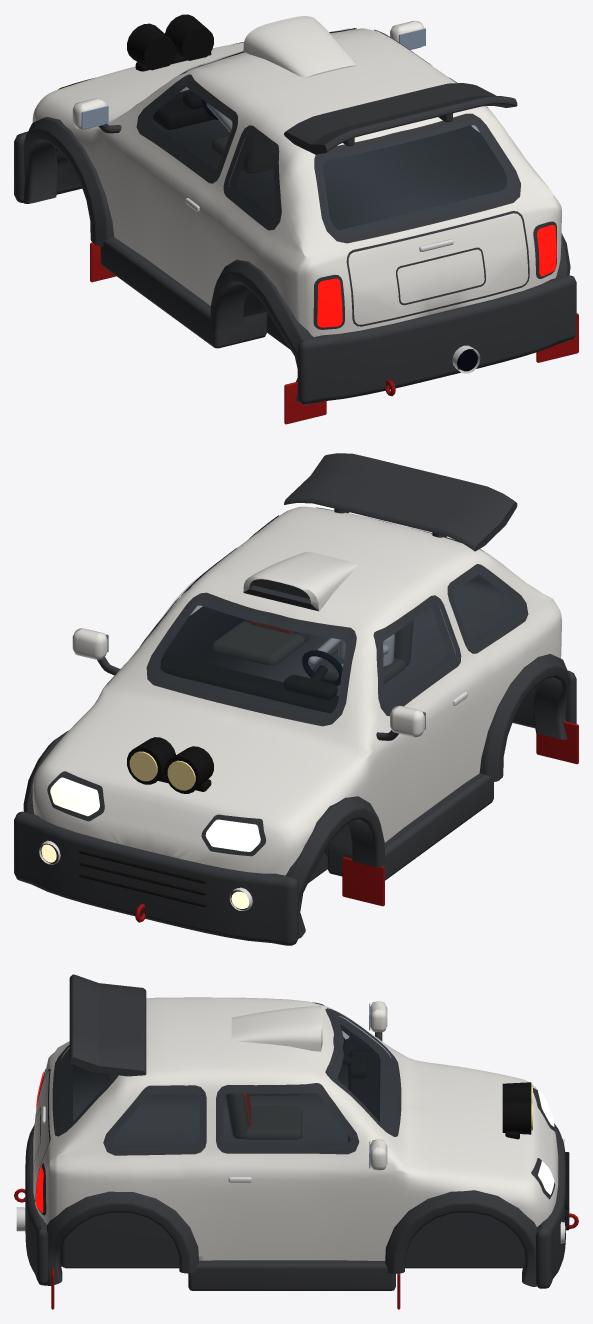
Rendered from car_rally.glb.
The picture shows the model from 3 angles, top to bottom: view 1: azimuth 30°, elevation 25°; view 2: azimuth 150°, elevation 25°; view 3: azimuth 270°, elevation 25°; orthographic projection. The views are drawn at different scales.
Visible parts, largest first — view 1: body_q, detail_q; view 2: body_q, detail_q; view 3: body_q, detail_q.
Part boxes in pixels (box(x1,y1,x2,y2)): body_q: box(14, 16, 576, 405); detail_q: box(81, 14, 578, 424); body_q: box(14, 453, 576, 945); detail_q: box(39, 618, 578, 922); body_q: box(25, 974, 565, 1290); detail_q: box(14, 1003, 578, 1309).
Size of the model in its own units: 2.48 by 1.82 by 3.92.
